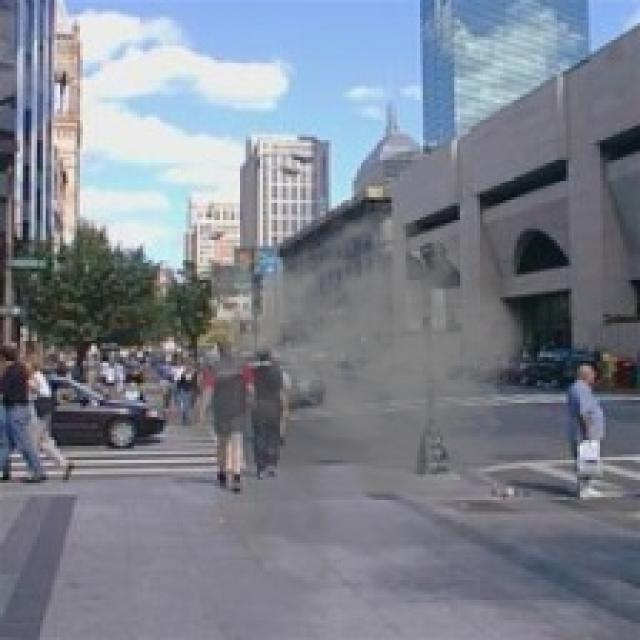Smoke: (166, 205, 543, 600)
